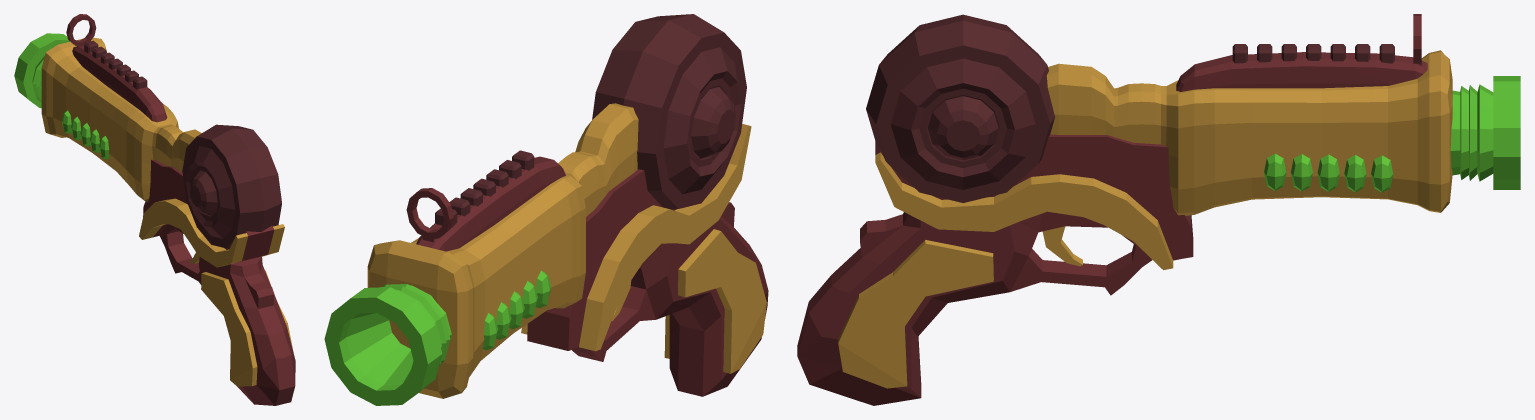
Rendered from scifi-ray-gun.glb.
The picture shows the model from 3 angles, left to right: view 1: azimuth 30°, elevation 25°; view 2: azimuth 150°, elevation 25°; view 3: azimuth 270°, elevation 25°; orthographic projection. The views are drawn at different scales.
Visible parts, largest first — view 1: RayGun; view 2: RayGun; view 3: RayGun.
Boxes of the visible parts, <box> form: RayGun: <box>14,14,295,405</box>; RayGun: <box>324,14,768,405</box>; RayGun: <box>797,14,1520,405</box>.
Size of the model in its own units: 0.5932 by 1.97 by 3.36.
